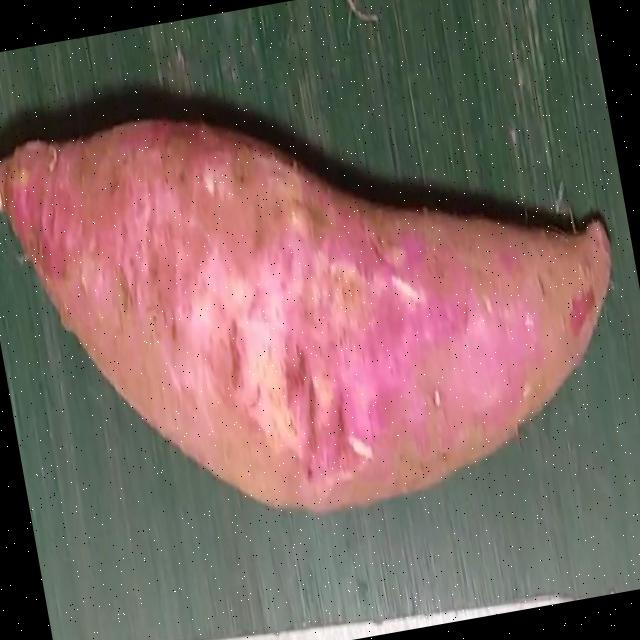Sweet Potato: (0, 115, 609, 513)
